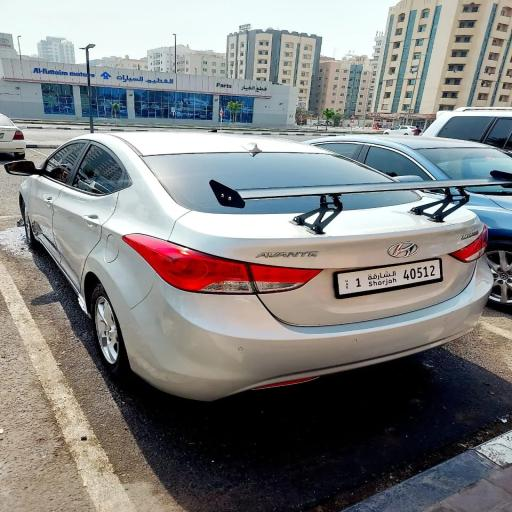license-plates: (337, 260, 441, 295)
